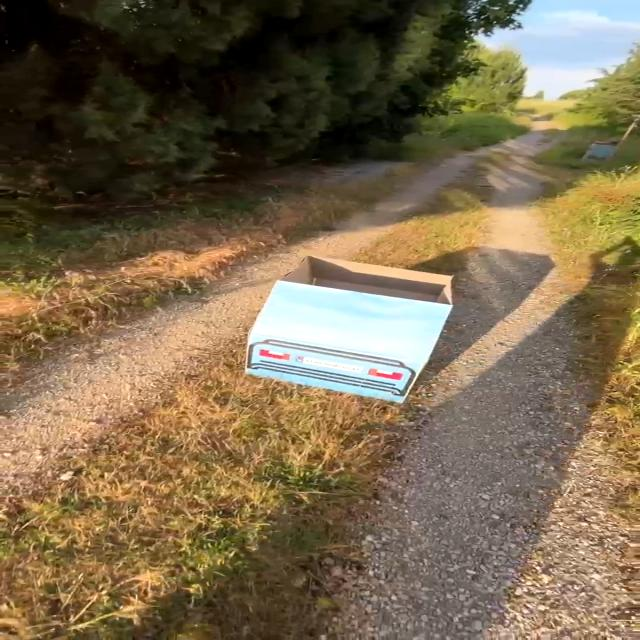blue_car: (154, 219, 546, 438)
